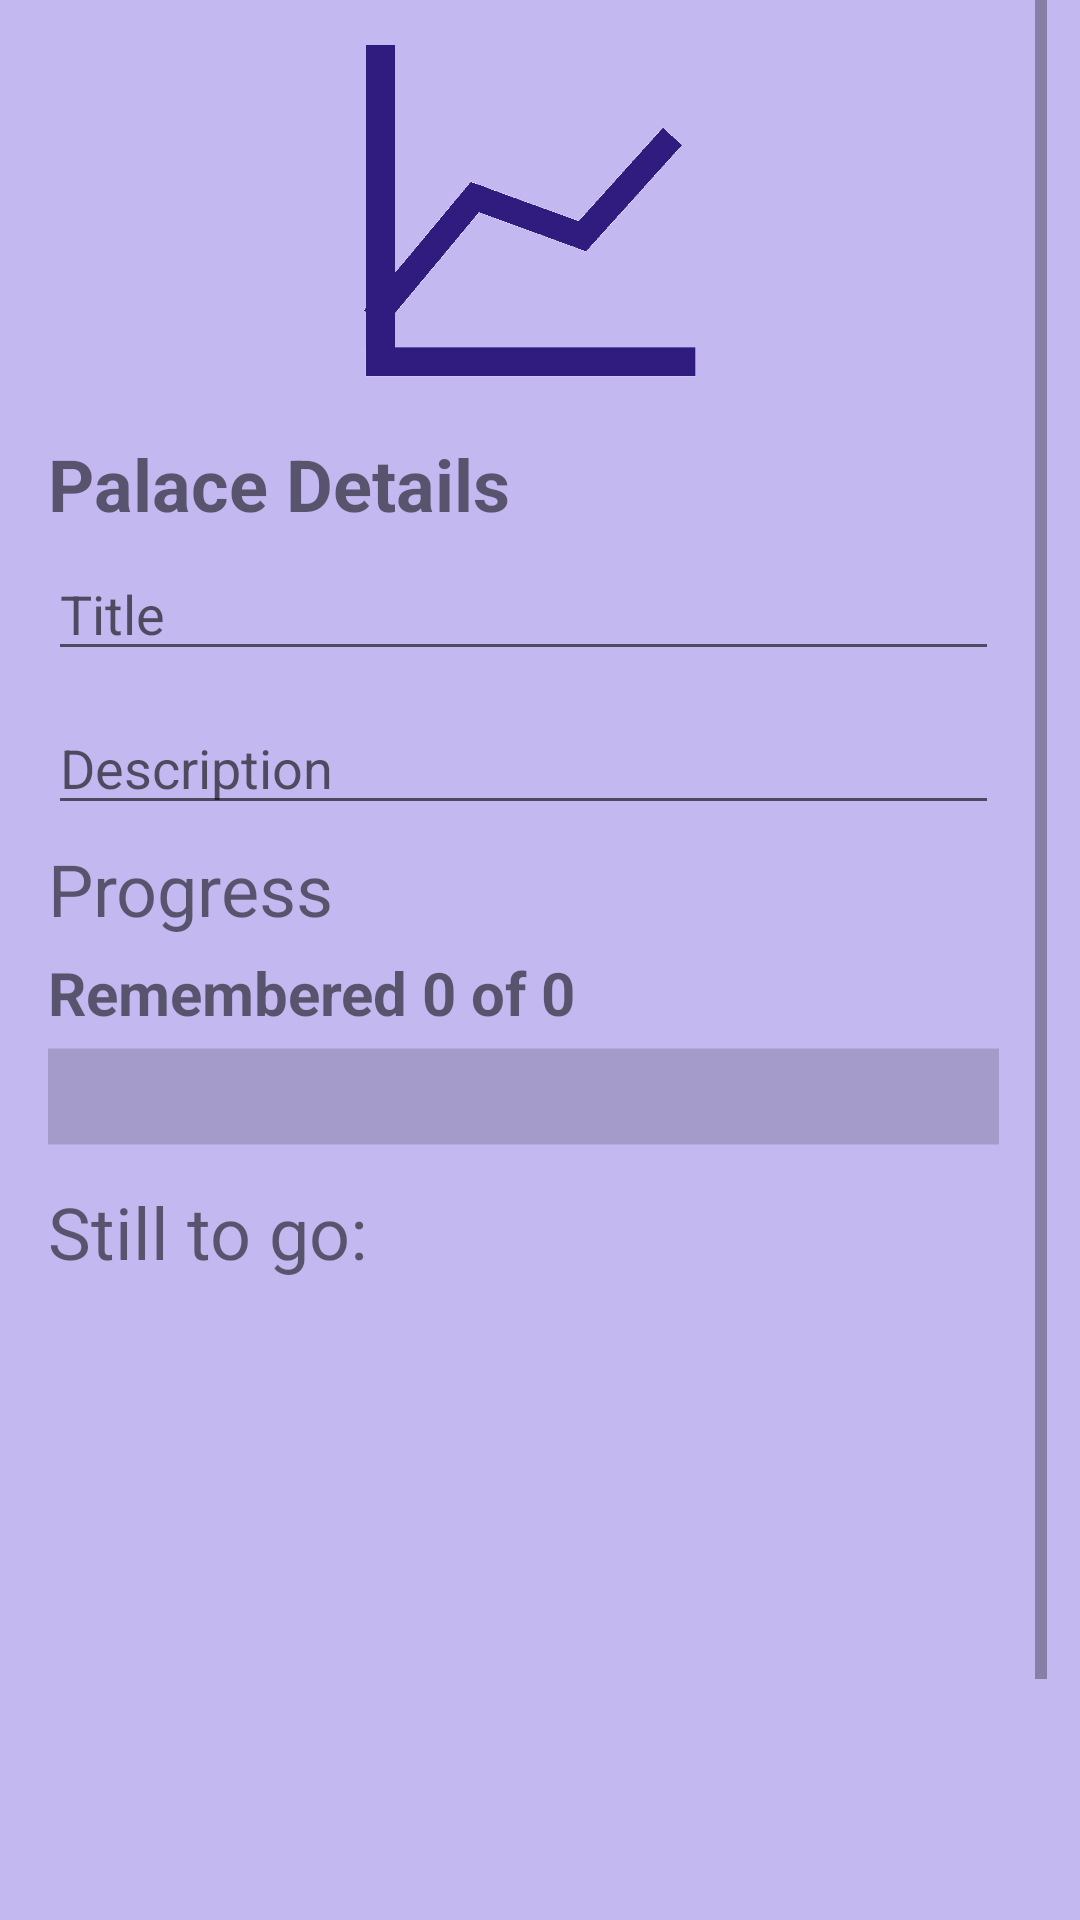

Point at icon controls on the screen. Image size 1080w x 1920h, points as (x,y).
trackpurple: (530,210)
